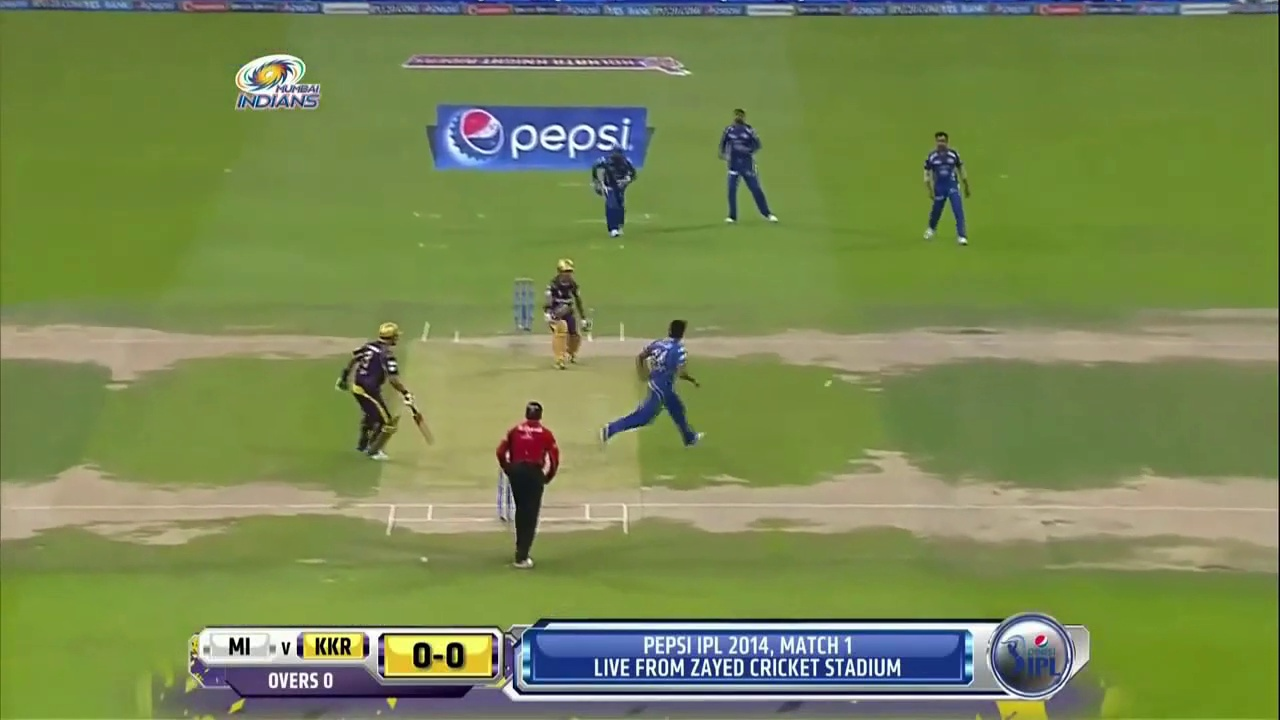bat: (411, 408, 435, 446)
